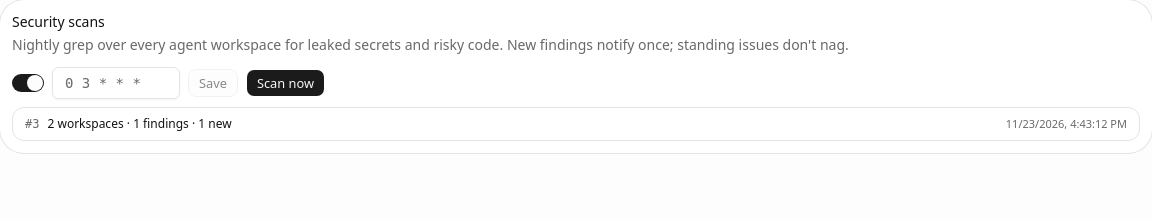
Test case: lists scans, expands findings, and scans on demand
This screenshot has width=1152, height=221.
Later steps or results of the test are not shown.
Click the button "#3 2 workspaces · 1 findings · 1 new 11/23/2026, 4:43:12 PM".
click(86, 124)  # box [13,108,1139,140]
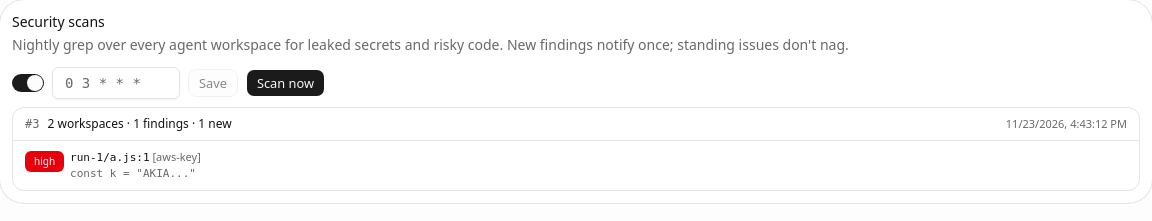
Result: the text "run-1/a.js:1" is shown at [70,151,150,164]
Result: the text "aws-key" is shown at [156,149,197,164]
